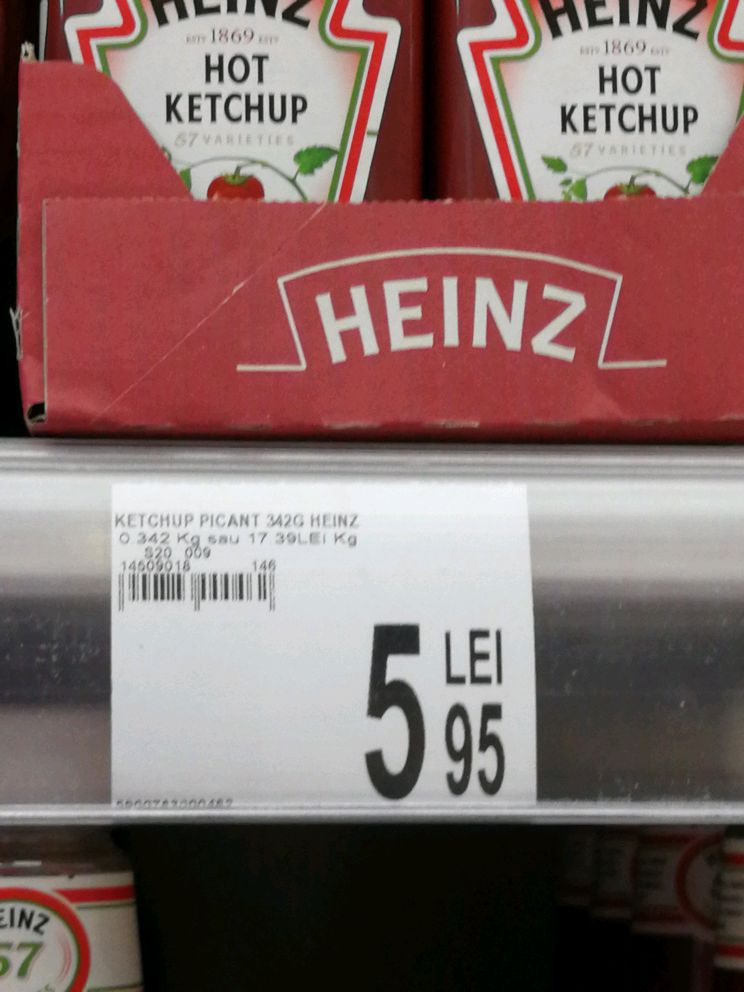price_bani: (433, 691, 513, 816)
price_lei: (352, 618, 434, 809)
price_tag: (87, 453, 573, 845)
product_id: (107, 792, 245, 814)
product_name: (110, 504, 375, 530)
